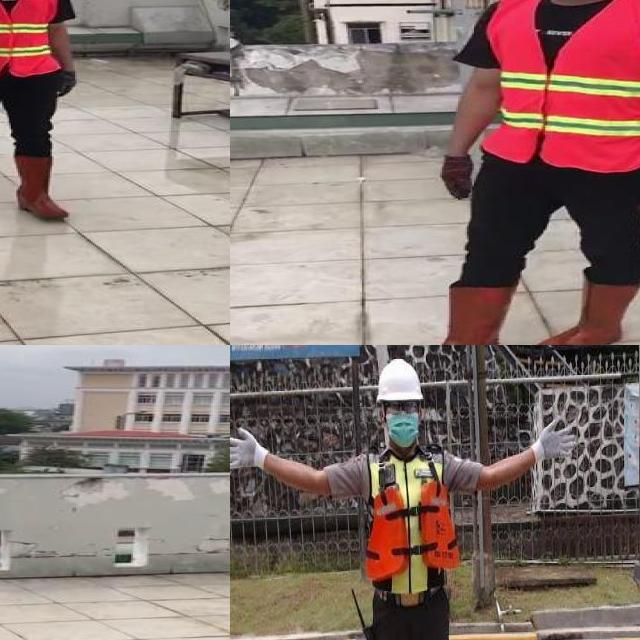boots: (530, 281, 639, 345), (401, 287, 515, 345), (11, 154, 70, 222)
hand_glove: (435, 153, 477, 202), (54, 70, 80, 101)
head_helmet: (377, 360, 425, 404)
person: (230, 355, 597, 640), (393, 0, 640, 345), (0, 0, 94, 227)
vest: (486, 0, 640, 172), (363, 448, 463, 596), (0, 0, 62, 77)
